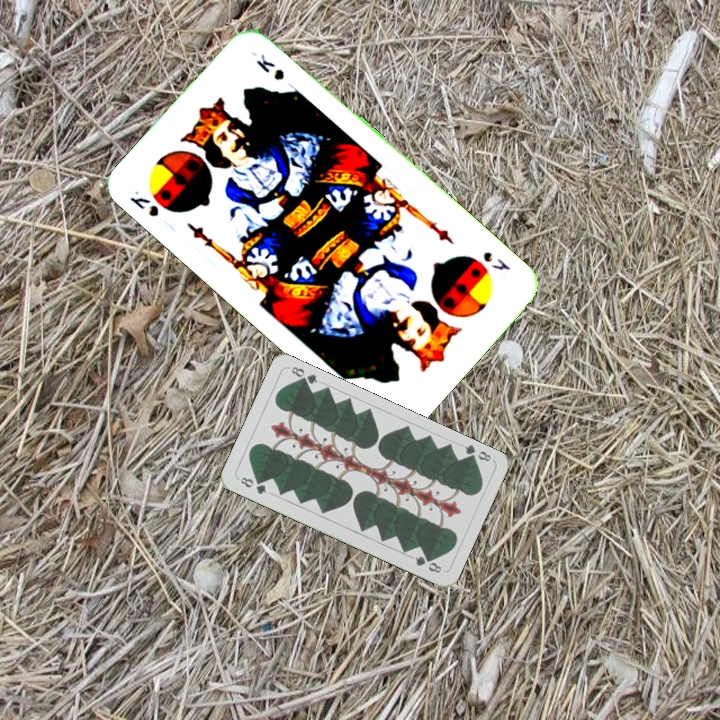G8: (460, 441, 494, 465), (236, 473, 269, 497)
SK: (125, 186, 162, 220), (479, 247, 513, 274)
